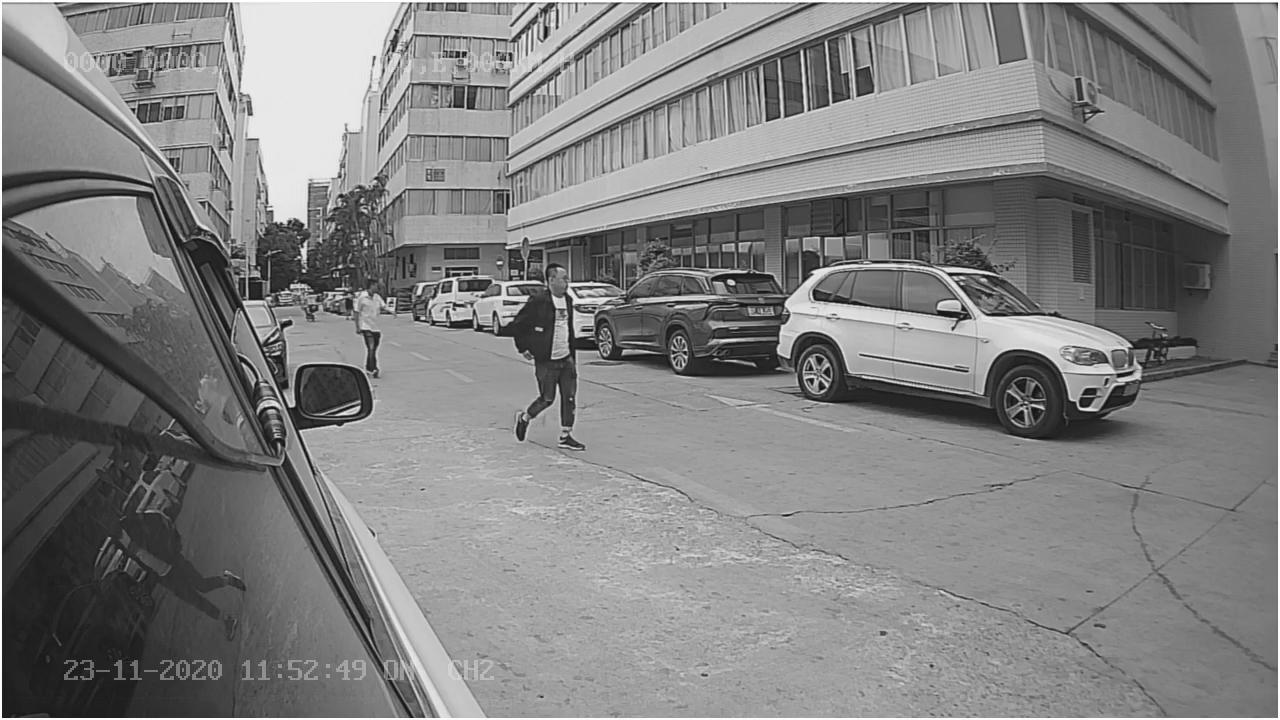person: (511, 265, 587, 442)
